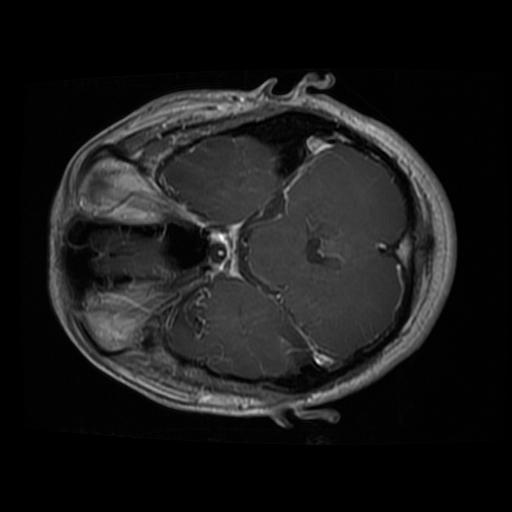glioma: (183, 285, 209, 338)
